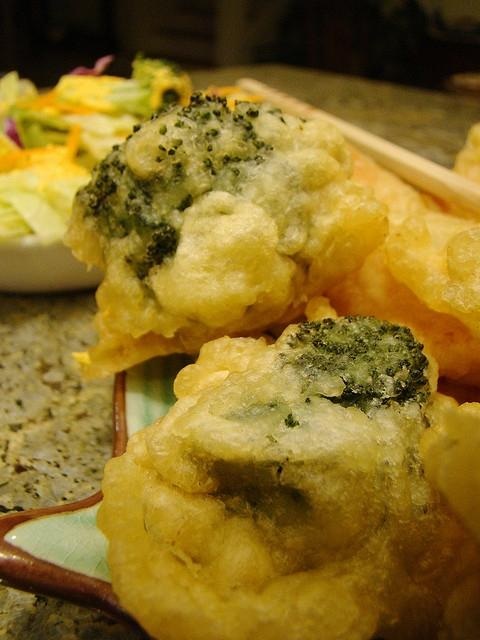broccoli: (77, 91, 273, 279), (290, 314, 433, 416), (107, 50, 193, 117), (7, 105, 70, 148)
lettuce: (0, 188, 68, 249), (7, 104, 72, 150), (16, 78, 38, 102)
